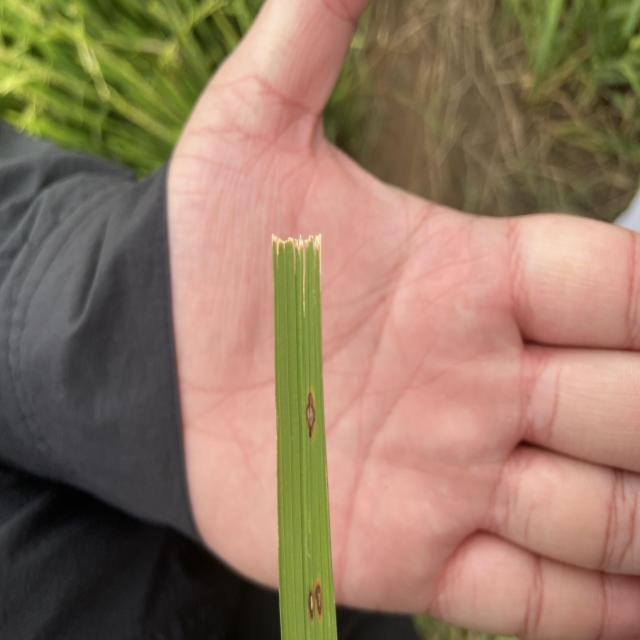Dao on: (305, 388, 316, 440), (315, 581, 322, 619), (307, 589, 315, 621)
